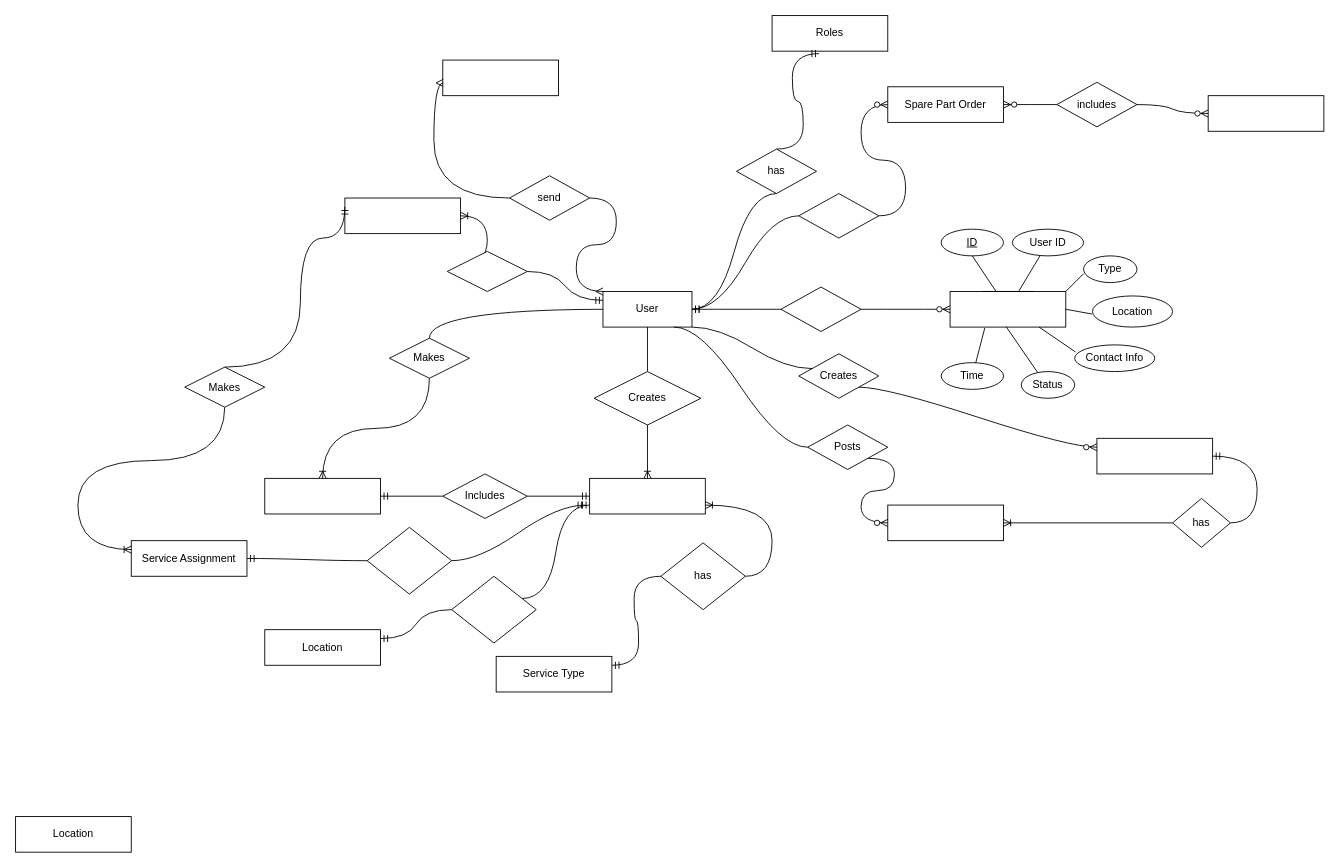
Image size: 1339x868. Some labels were removed from this diagram. Each missing label, with the centre of its shape:
Assistance Request: the point at 647,495
Community Post: the point at 1154,455
Contains: the point at 409,560
Emergency Service: the point at 1007,309
Forum Message: the point at 945,522
manages: the point at 486,271
Mechanic: the point at 402,215
Messages: the point at 500,77
occurs at: the point at 493,609
Payment: the point at 322,495
places: the point at 838,215
Requests: the point at 820,309
Spare Parts: the point at 1265,113
